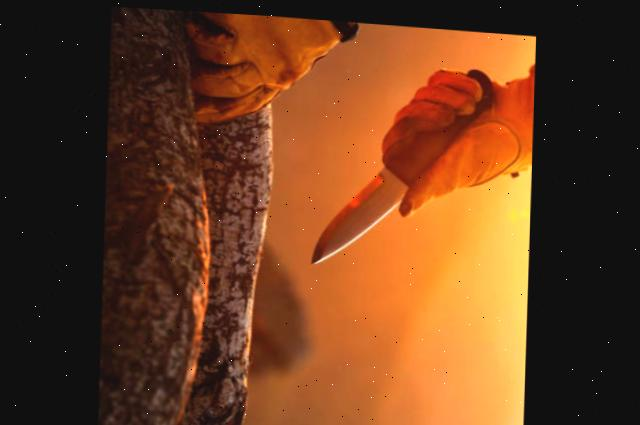pocket-knife: (308, 37, 495, 274)
